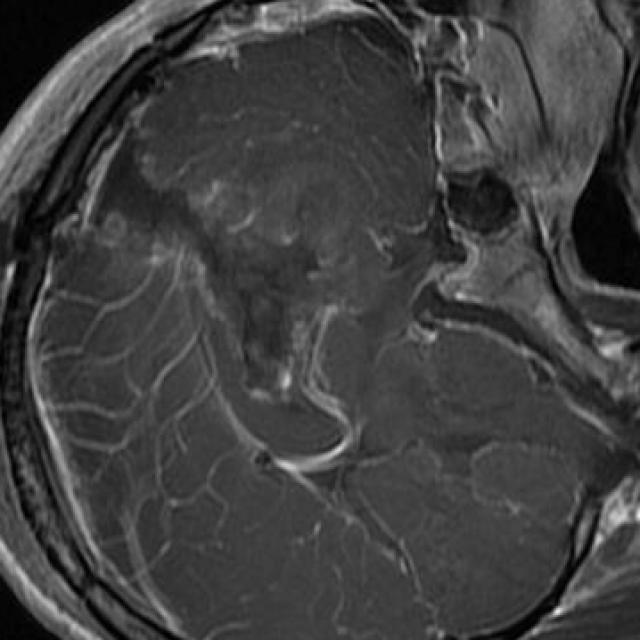glioma: (87, 128, 321, 396)
